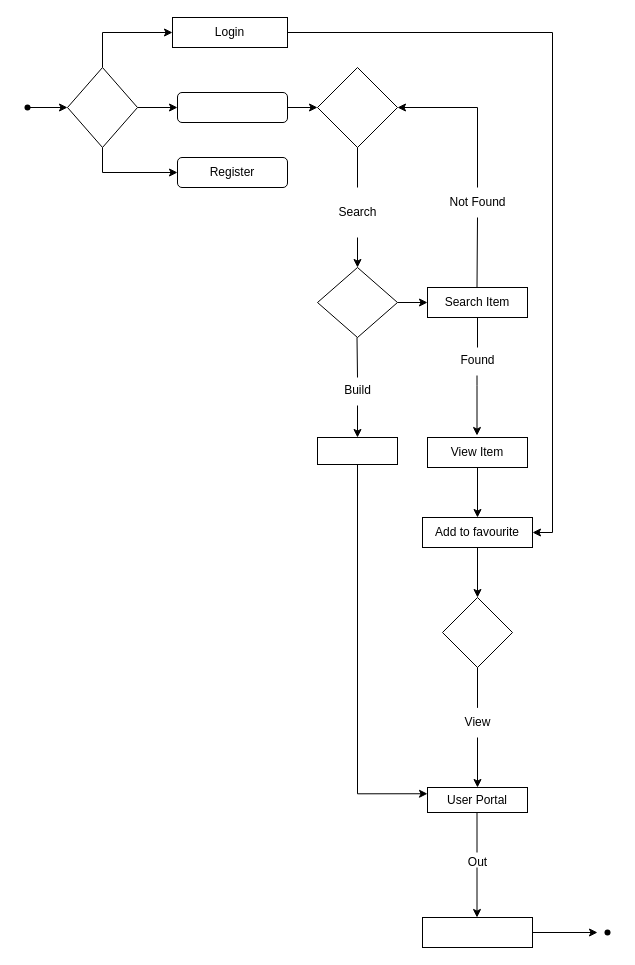
This 635x965 diagram has some shape labels left out. Here are the shapes that lost their labels. From the top down, the centre of each, then its label:
the point at 232,107: Veiw Parts/Build
the point at 357,450: Estimate
the point at 477,932: Log OUt
